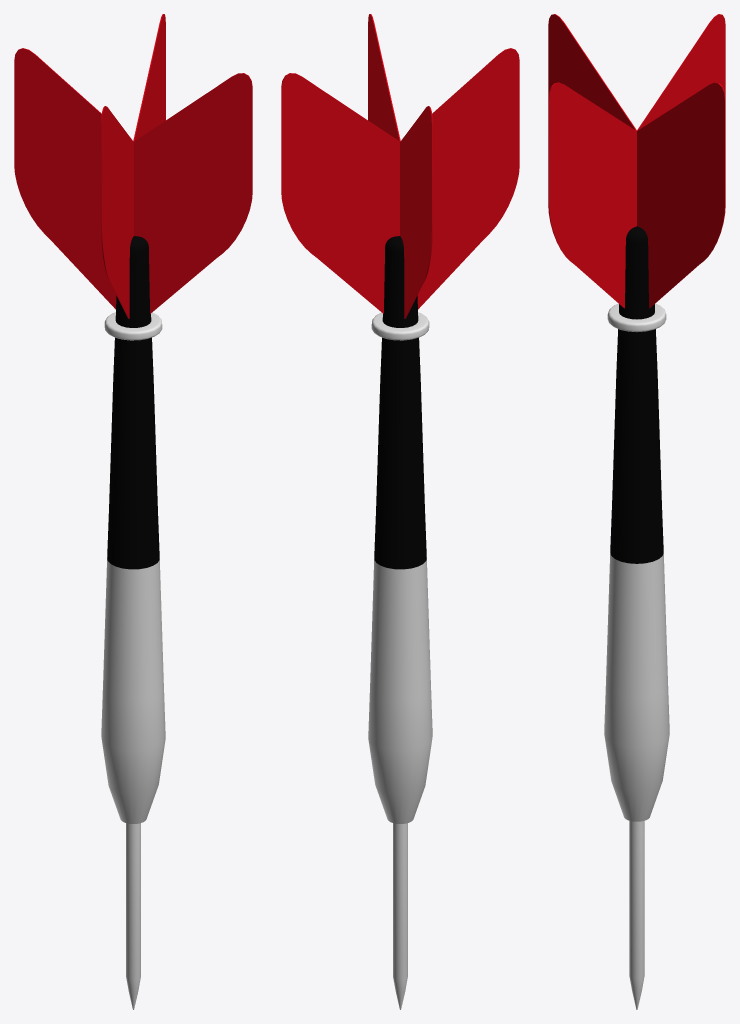
File: red_dart.glb
The picture shows the model from 3 angles, left to right: view 1: azimuth 30°, elevation 25°; view 2: azimuth 150°, elevation 25°; view 3: azimuth 270°, elevation 25°; orthographic projection.
Parts seen in each view (by area): view 1: red_dart; view 2: red_dart; view 3: red_dart.
Boxes of the visible parts, left/top/right/bottom form: red_dart: left=14, top=14, right=252, bottom=1009; red_dart: left=281, top=14, right=519, bottom=1009; red_dart: left=548, top=14, right=725, bottom=1009.
Bounding box in the file's own units: 0.0261 × 0.1561 × 0.0261.
